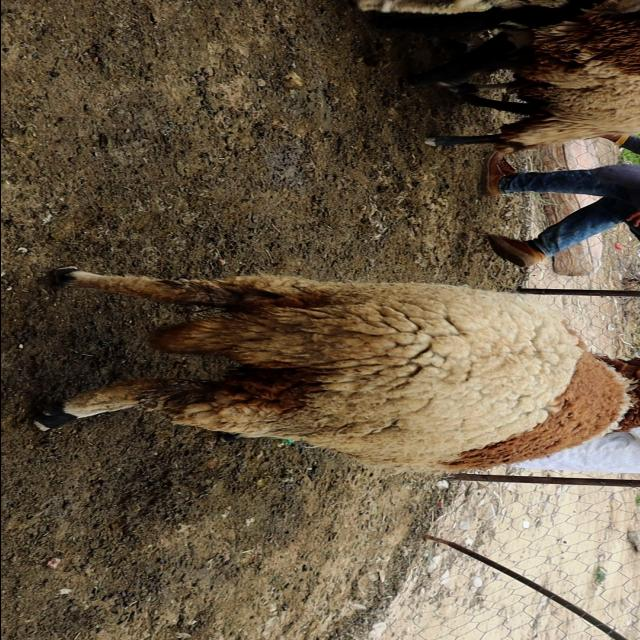Score_5: (33, 266, 640, 473)
